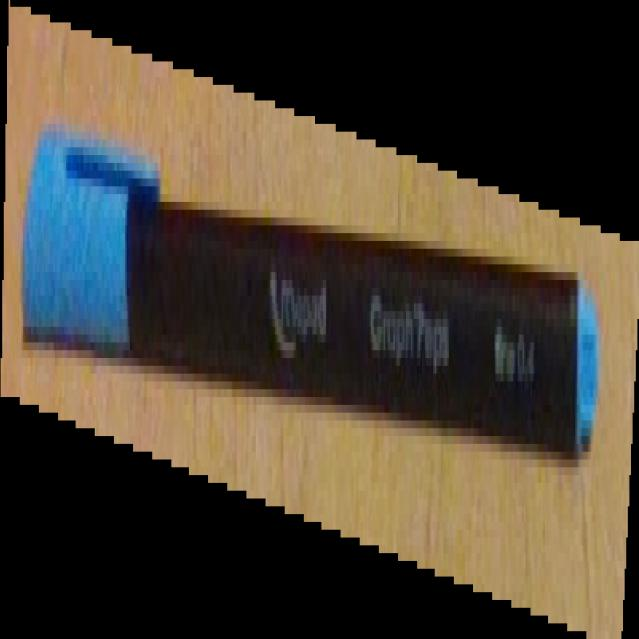blue: (0, 1, 639, 639)
